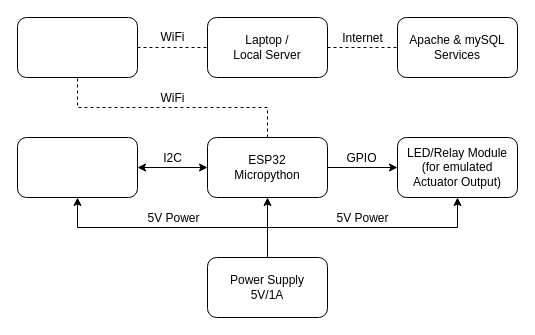
The diagram is 535 pixels wide and 335 high, and some of its shapes have lost their labels. The shapes that lost their labels are listed below. From the top down, each one's box as (x1, y1, x2, y2) in pixels, then its label:
(16, 16, 138, 78): 2.4GHz WiFi Router
(16, 136, 138, 198): Sensirion SPS30 PM2.5 Sensor
